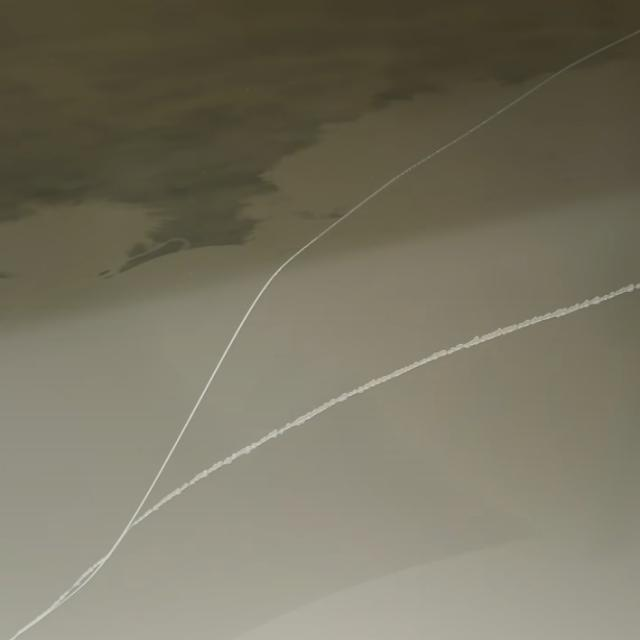crack: (221, 50, 520, 404), (211, 299, 519, 503)
